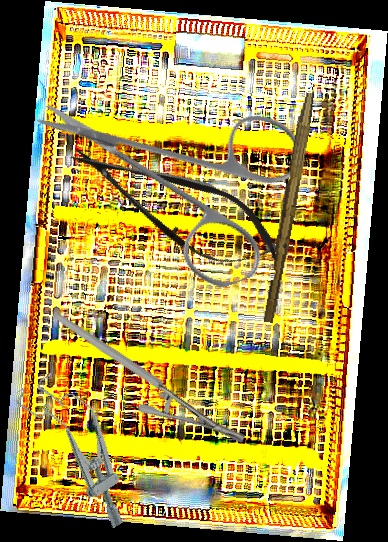Iris Scissors: (33, 26, 338, 329)
Micro Scissor: (56, 120, 295, 291)
Needle Holder: (51, 265, 250, 489)
Scalpel Handle: (261, 91, 316, 324)
Speculum: (11, 362, 154, 536)
